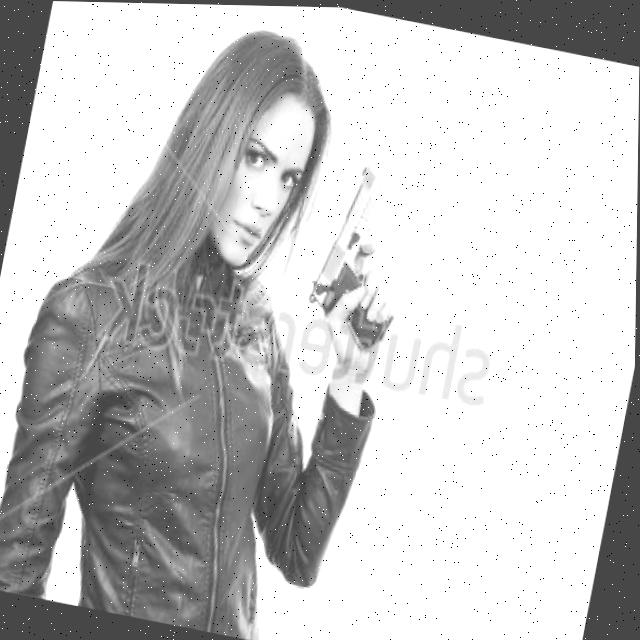pistol: (306, 156, 393, 322)
